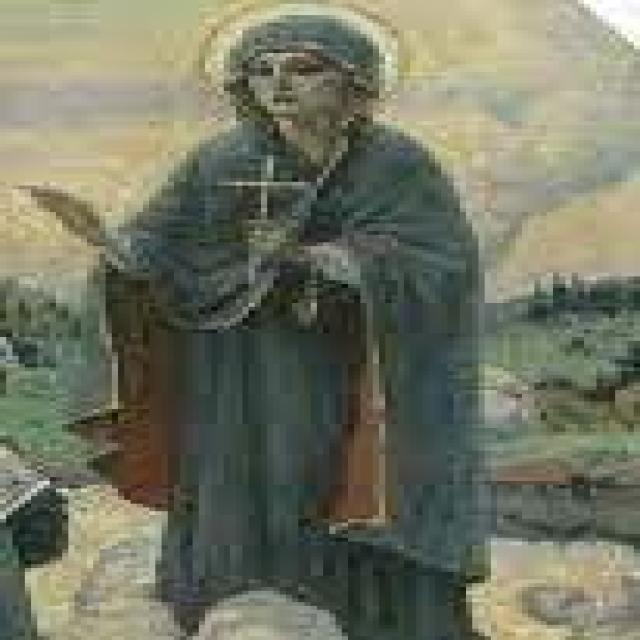mother of god: (12, 7, 565, 640)
